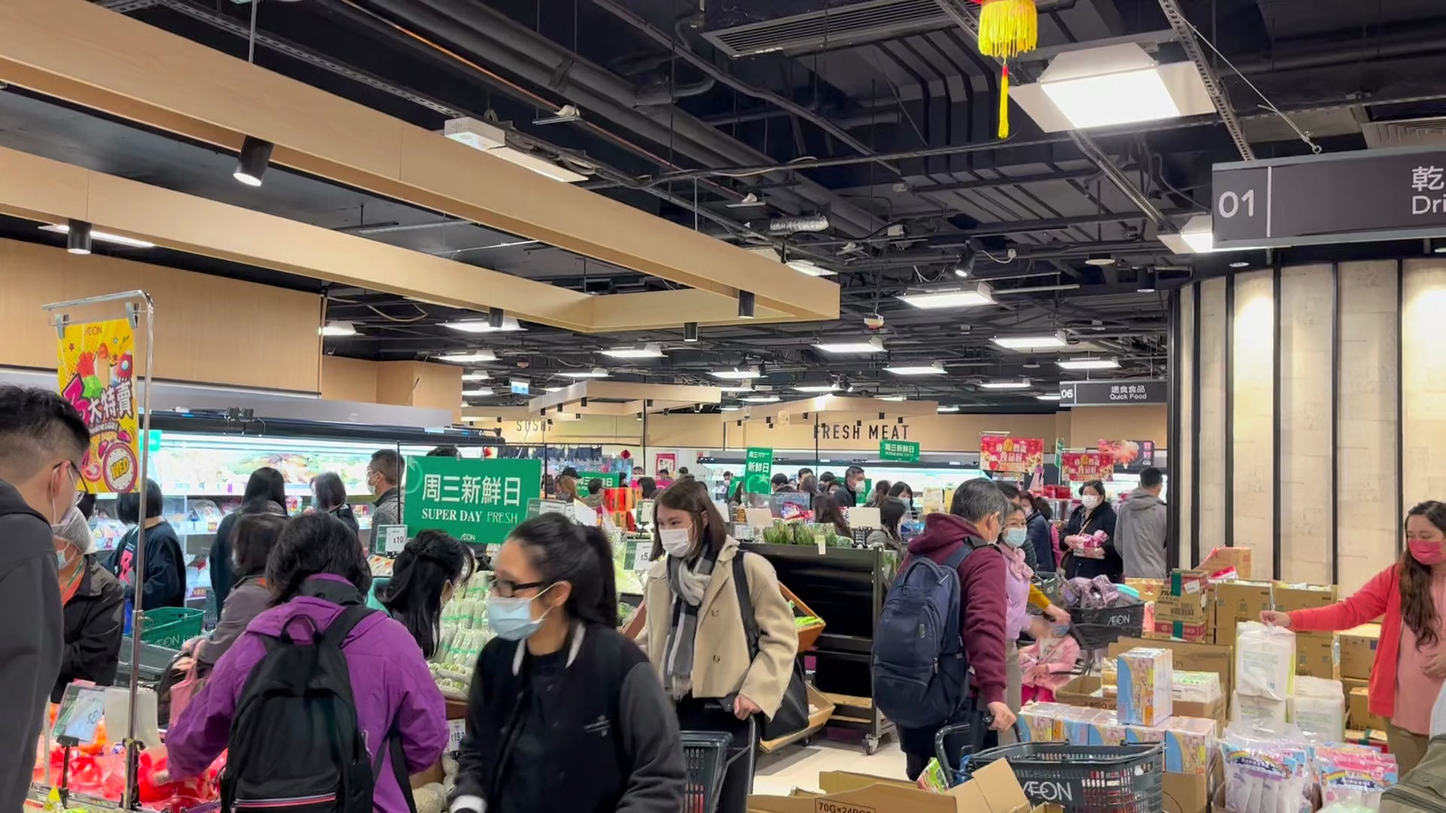dates_box: (227, 0, 1010, 503), (906, 0, 1446, 412), (195, 559, 771, 813), (1095, 0, 1446, 269), (385, 578, 764, 813)
electronics: (863, 237, 1445, 813), (676, 194, 1214, 813), (827, 200, 1212, 813), (981, 366, 1445, 813), (1127, 296, 1445, 813), (1261, 16, 1446, 792), (334, 430, 677, 813), (0, 447, 341, 813), (1258, 272, 1446, 813), (1213, 423, 1445, 813), (40, 286, 160, 513), (42, 289, 159, 450)
perfume_bottle: (87, 565, 247, 770)
wallet: (1185, 0, 1446, 266), (1209, 57, 1446, 267), (1208, 160, 1327, 253)
watch: (0, 144, 526, 813), (1, 56, 393, 813), (877, 2, 1416, 542), (829, 73, 1375, 590), (0, 136, 317, 813), (571, 503, 1064, 813), (1, 287, 280, 813)
